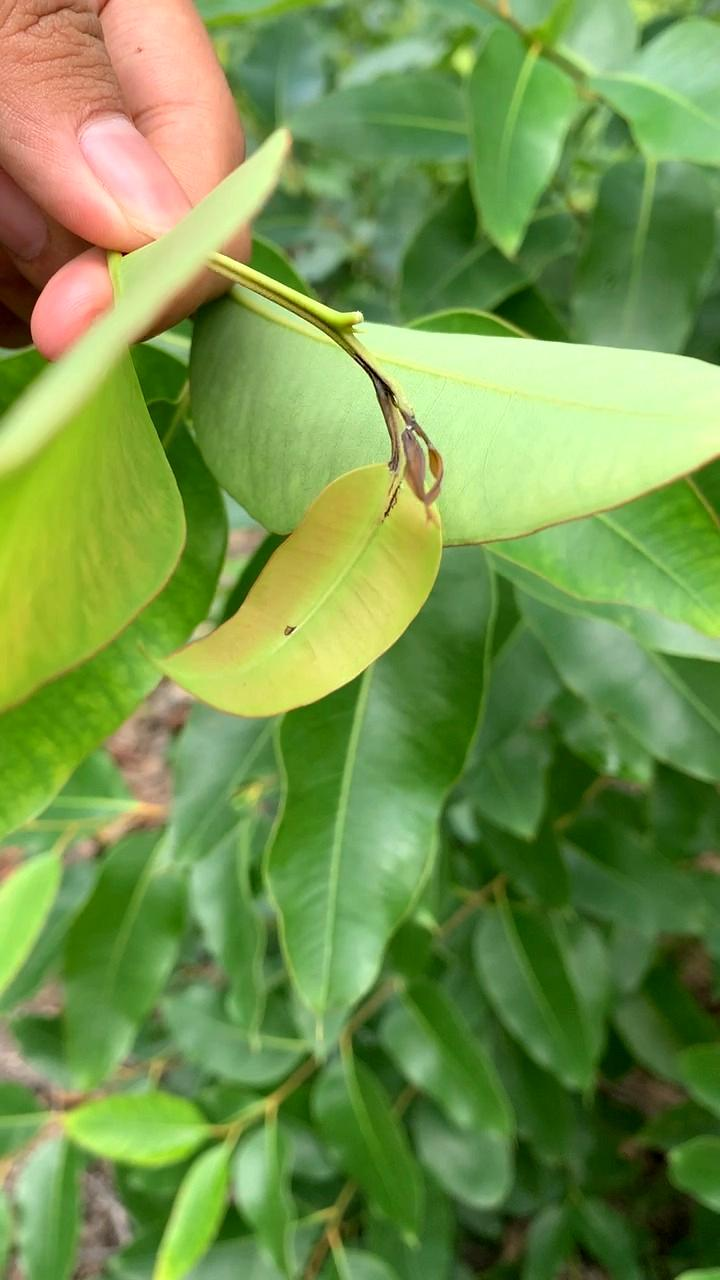Helopeltis-Withered Sprout: (351, 358, 471, 546)
